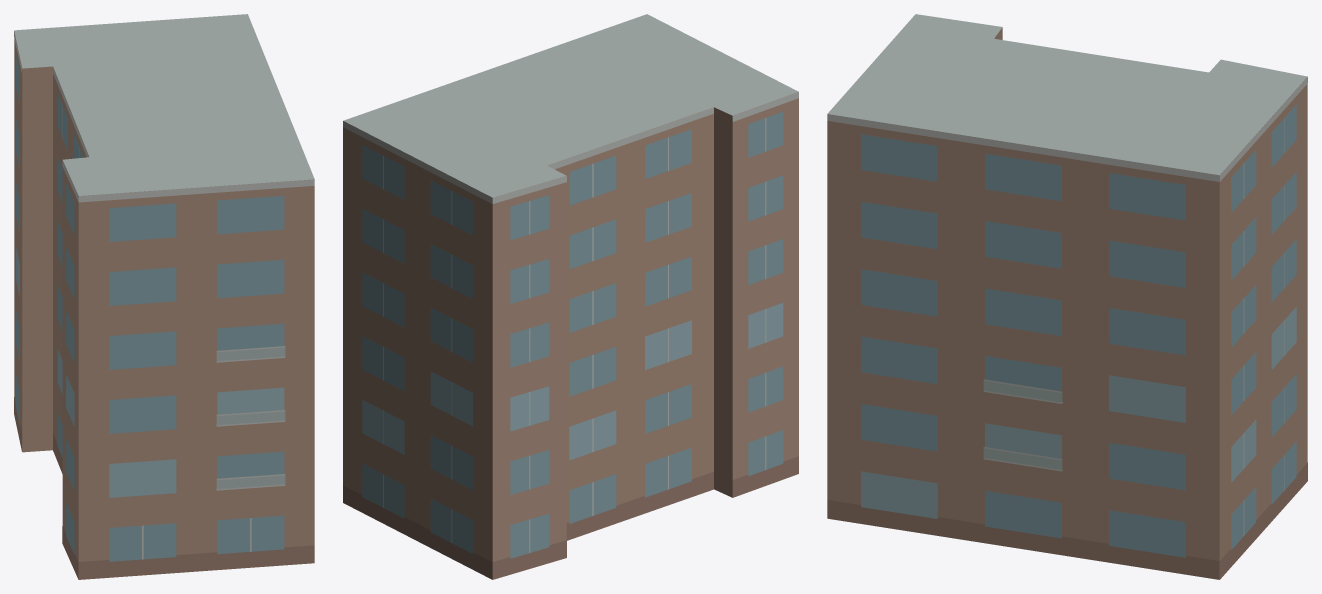
The model's file is survey-upis-32968393.glb.
The picture shows the model from 3 angles, left to right: view 1: azimuth 30°, elevation 25°; view 2: azimuth 150°, elevation 25°; view 3: azimuth 270°, elevation 25°; orthographic projection. The views are drawn at different scales.
Parts seen in each view (by area): view 1: survey-upis-32968393.tmp; view 2: survey-upis-32968393.tmp; view 3: survey-upis-32968393.tmp.
Part boxes in pixels (<box>): survey-upis-32968393.tmp: <box>14,14,314,579</box>; survey-upis-32968393.tmp: <box>343,14,798,579</box>; survey-upis-32968393.tmp: <box>827,14,1307,579</box>.
Bounding box in the file's own units: 12.45 × 14.55 × 15.67.
